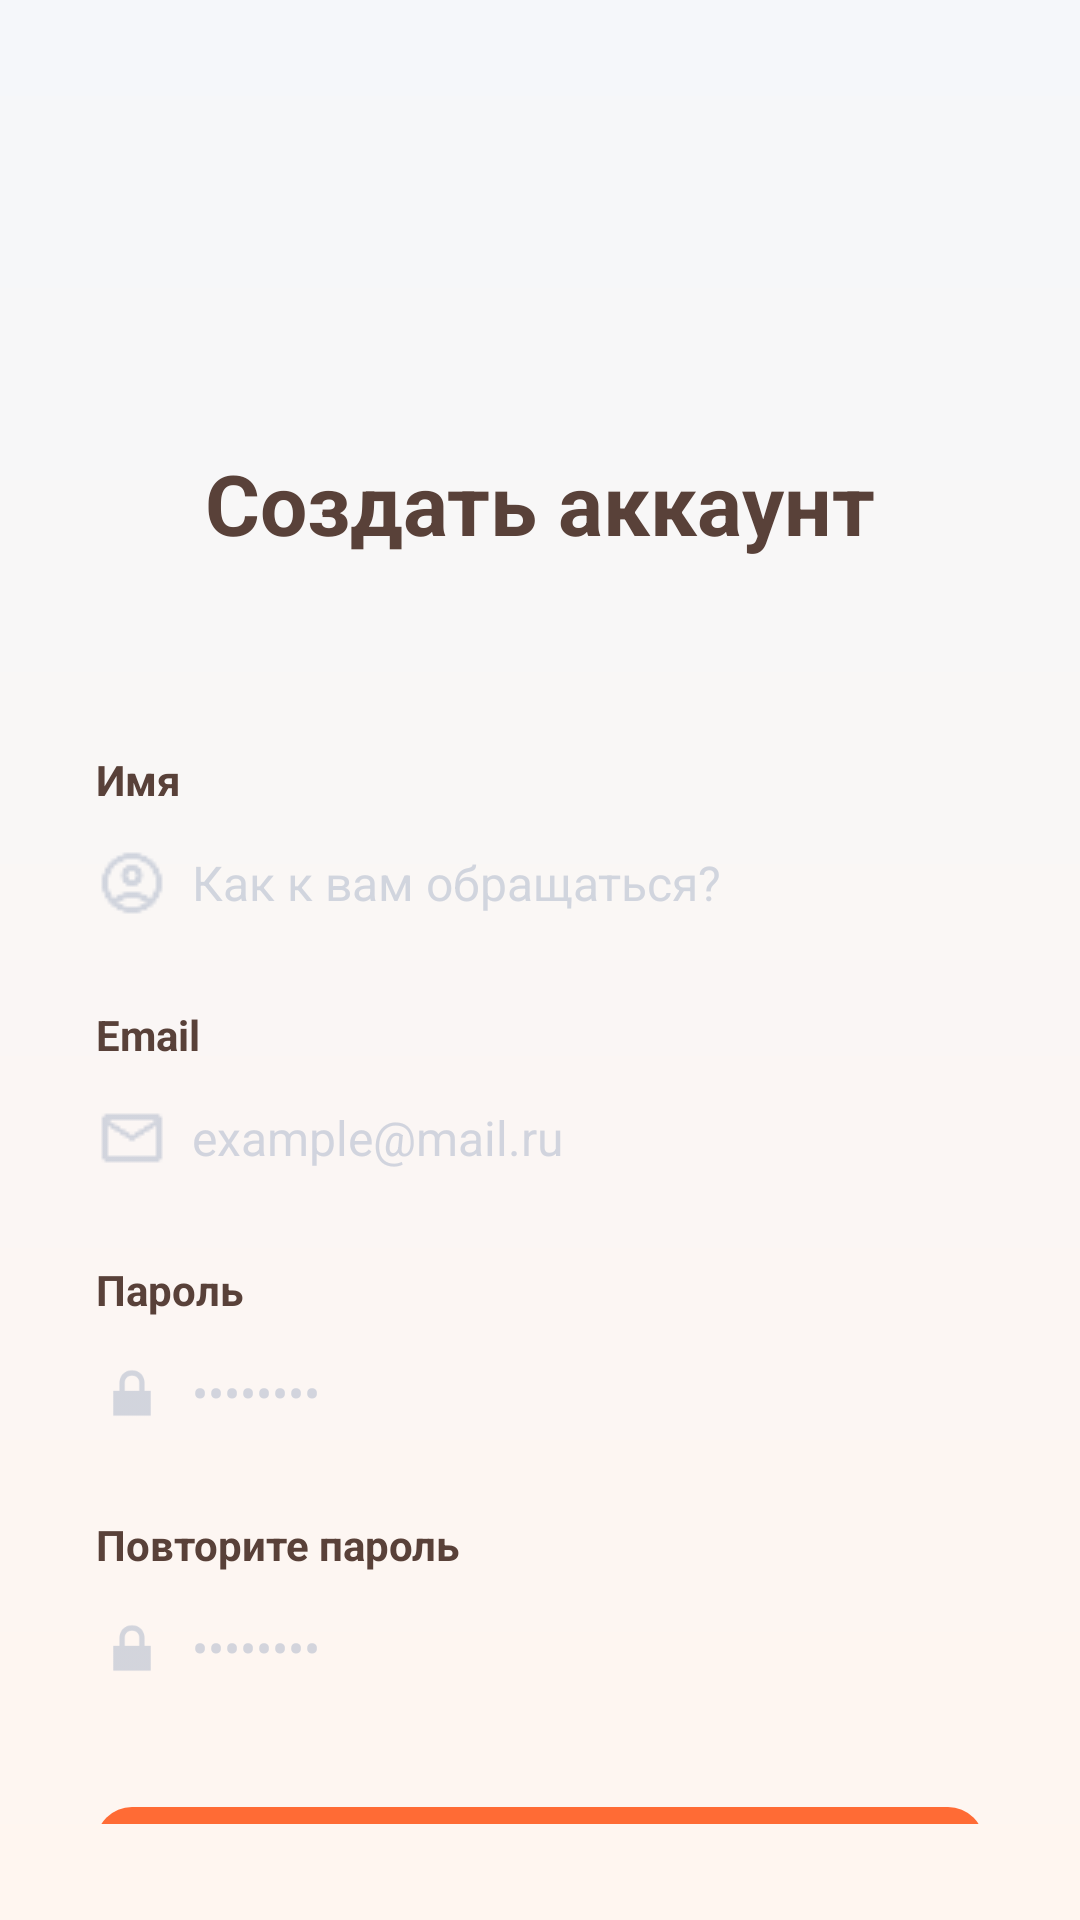

Where to tap for icons on this 1080 × 1920 app screen, as (x,y):
lock: (132,1393), (132,1648)
